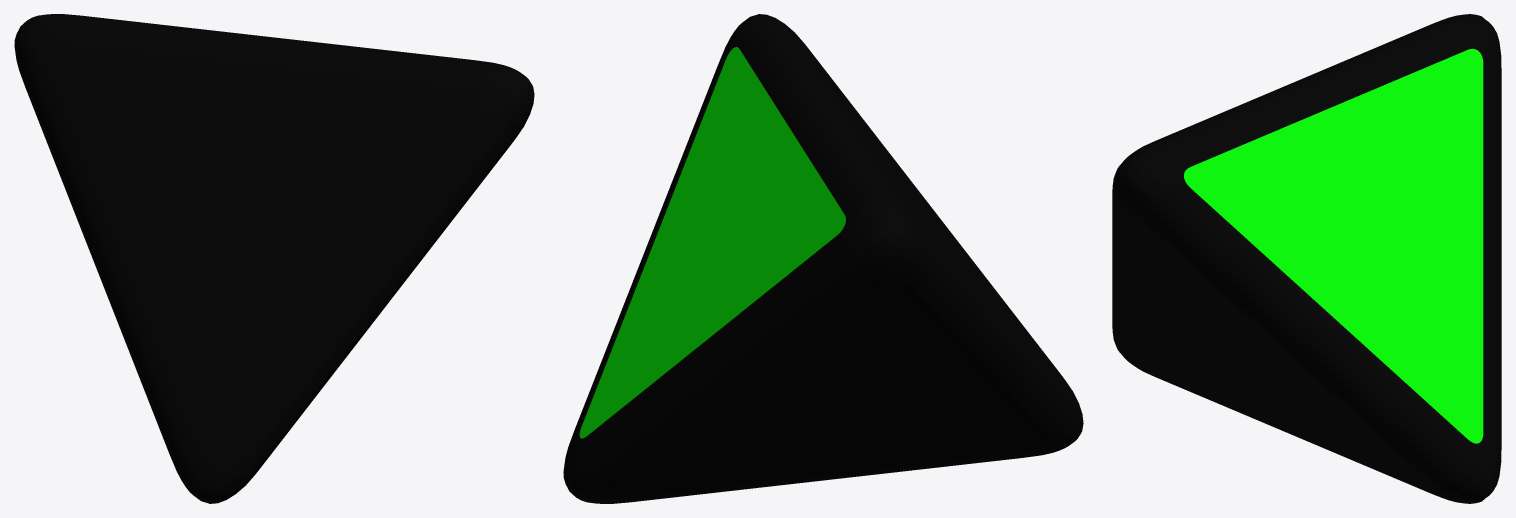
File: t_green.fbx
3 views of the same model, side by side, from view 1: azimuth 30°, elevation 25°; view 2: azimuth 150°, elevation 25°; view 3: azimuth 270°, elevation 25° (orthographic). The views are drawn at different scales.
Visible parts, largest first — view 1: t_green; view 2: t_green; view 3: t_green.
Boxes of the visible parts, x1,y1,x2,y2 form: t_green: (14,14,534,503); t_green: (563,14,1083,503); t_green: (1112,14,1501,503).
Bounding box in the file's own units: 88.28 × 88.28 × 88.28.
